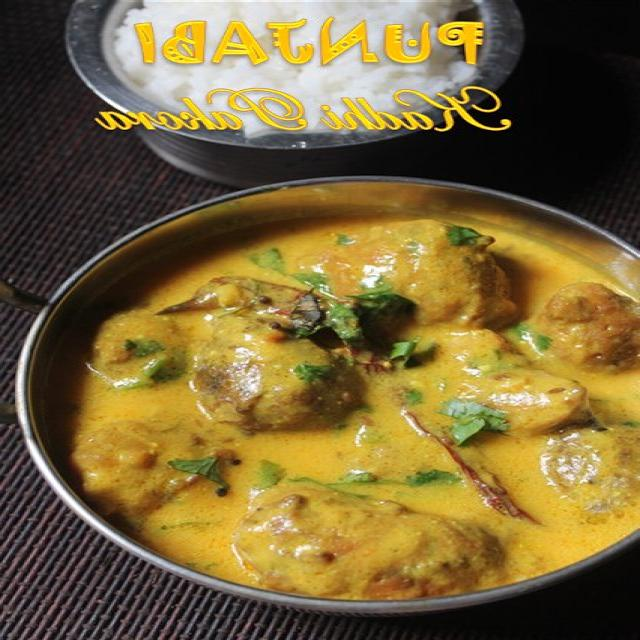Kadhi Pakora: (76, 219, 640, 599)
